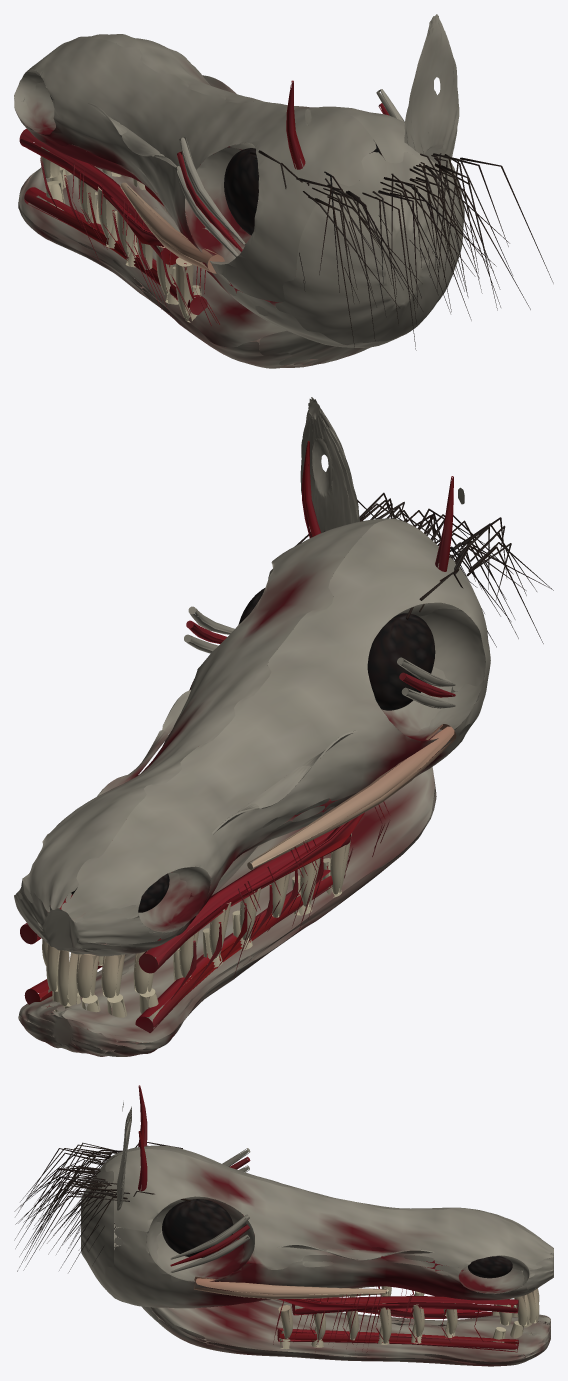
The model's file is horse-mask.glb.
The picture shows the model from 3 angles, top to bottom: view 1: azimuth 30°, elevation 25°; view 2: azimuth 150°, elevation 25°; view 3: azimuth 270°, elevation 25°; orthographic projection. The views are drawn at different scales.
Visible parts, largest first — view 1: Mask_Torn_equine_mask_skin, Jaw_Torn_equine_mask_skin, Mask_Matted_black_horse_mane, Mask_Wet_torn_tissue, Mask_Damp_exposed_ivory, Jaw_Wet_torn_tissue, Mask_Deep_orbital_darkness, Jaw_Damp_exposed_ivory; view 2: Mask_Torn_equine_mask_skin, Jaw_Torn_equine_mask_skin, Mask_Damp_exposed_ivory, Mask_Wet_torn_tissue, Mask_Deep_orbital_darkness, Mask_Matted_black_horse_mane, Jaw_Wet_torn_tissue, Jaw_Damp_exposed_ivory; view 3: Mask_Torn_equine_mask_skin, Jaw_Torn_equine_mask_skin, Mask_Wet_torn_tissue, Mask_Damp_exposed_ivory, Mask_Matted_black_horse_mane, Mask_Deep_orbital_darkness, Jaw_Wet_torn_tissue, Jaw_Damp_exposed_ivory.
Part boxes in pixels (x1,y1,x2,y2): Mask_Torn_equine_mask_skin: (14,14,464,347); Jaw_Torn_equine_mask_skin: (18,166,370,368); Mask_Matted_black_horse_mane: (249,142,553,350); Mask_Wet_torn_tissue: (19,80,389,325); Mask_Damp_exposed_ivory: (40,147,224,318); Jaw_Wet_torn_tissue: (24,185,207,314); Mask_Deep_orbital_darkness: (50,95,383,235); Jaw_Damp_exposed_ivory: (46,167,201,322); Mask_Torn_equine_mask_skin: (14,397,490,956); Jaw_Torn_equine_mask_skin: (18,767,436,1056); Mask_Damp_exposed_ivory: (42,724,456,1006); Mask_Wet_torn_tissue: (20,441,455,999); Mask_Deep_orbital_darkness: (71,588,435,912); Mask_Matted_black_horse_mane: (295,492,553,647); Jaw_Wet_torn_tissue: (24,865,345,1032); Jaw_Damp_exposed_ivory: (48,858,341,1018); Mask_Torn_equine_mask_skin: (81,1102,553,1308); Jaw_Torn_equine_mask_skin: (141,1268,550,1366); Mask_Wet_torn_tissue: (138,1085,518,1352); Mask_Damp_exposed_ivory: (193,1276,539,1343); Mask_Matted_black_horse_mane: (14,1142,195,1272); Mask_Deep_orbital_darkness: (162,1199,512,1278); Jaw_Wet_torn_tissue: (277,1297,518,1352); Jaw_Damp_exposed_ivory: (279,1288,531,1349).
Bounding box in the file's own units: 0.5938 × 1.01 × 1.8.
